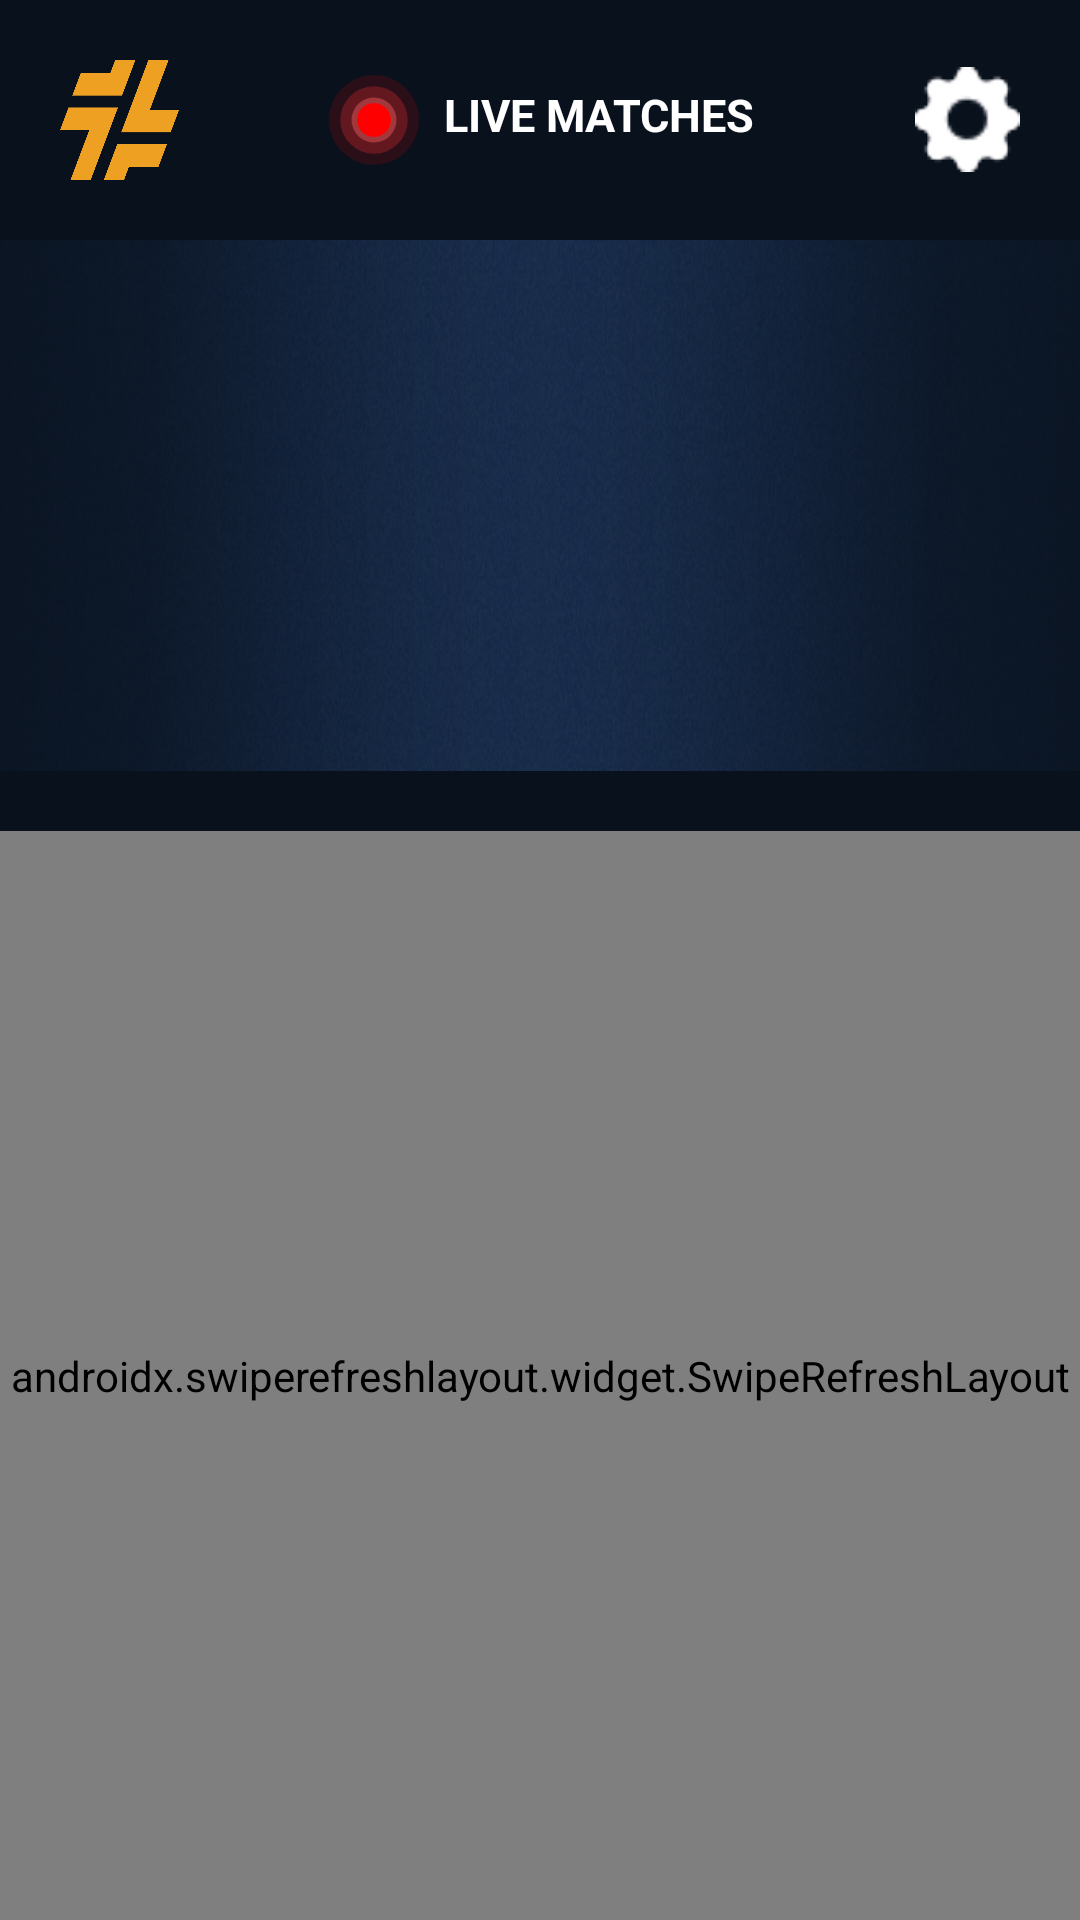

Named icons in this screenshot (1080px x 1920px) and their centers, (x=x, y=y):
live circle: (x=374, y=120)
settings: (x=967, y=119)
